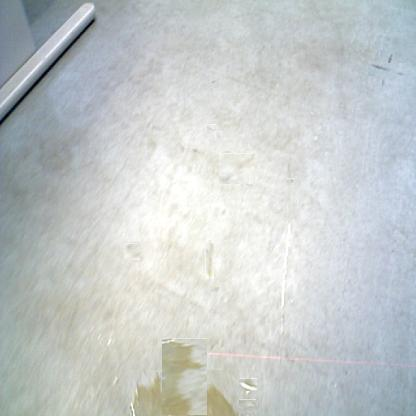liquid: (145, 354, 223, 416), (240, 377, 257, 393), (239, 399, 256, 415)
mark: (221, 152, 254, 186), (374, 56, 400, 82), (205, 242, 214, 279), (124, 243, 141, 259), (210, 78, 219, 88), (206, 123, 215, 132), (215, 131, 222, 140), (191, 147, 198, 154), (287, 177, 294, 184)
